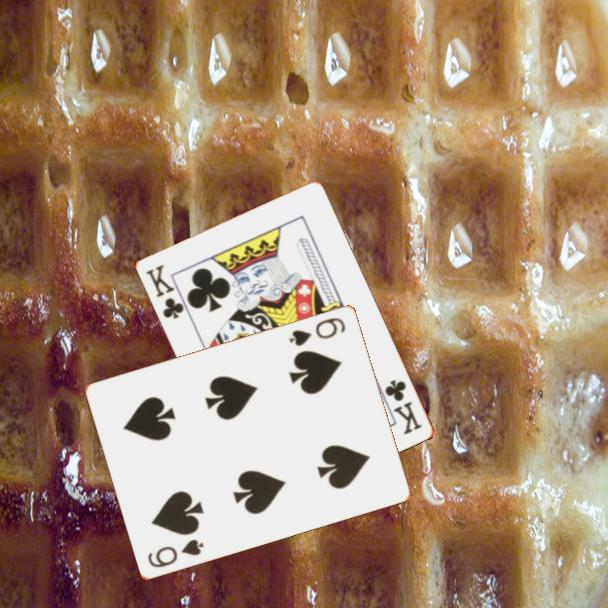c13: (142, 261, 187, 323), (382, 376, 425, 438)
s06: (285, 313, 348, 349), (144, 535, 207, 570)
